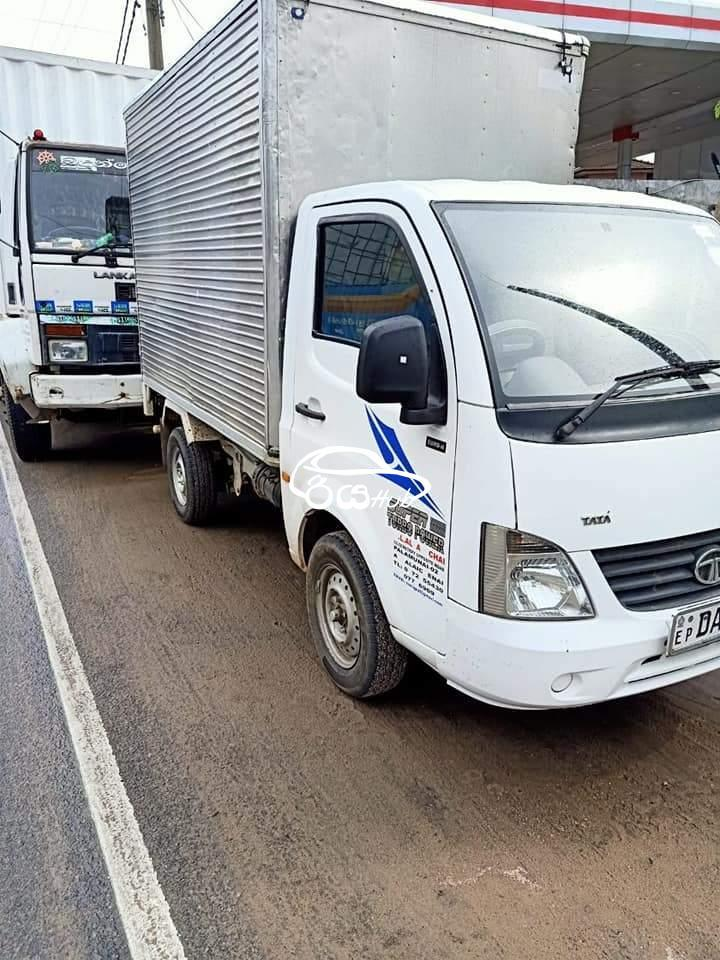truck: (120, 2, 720, 714), (2, 45, 178, 465)
